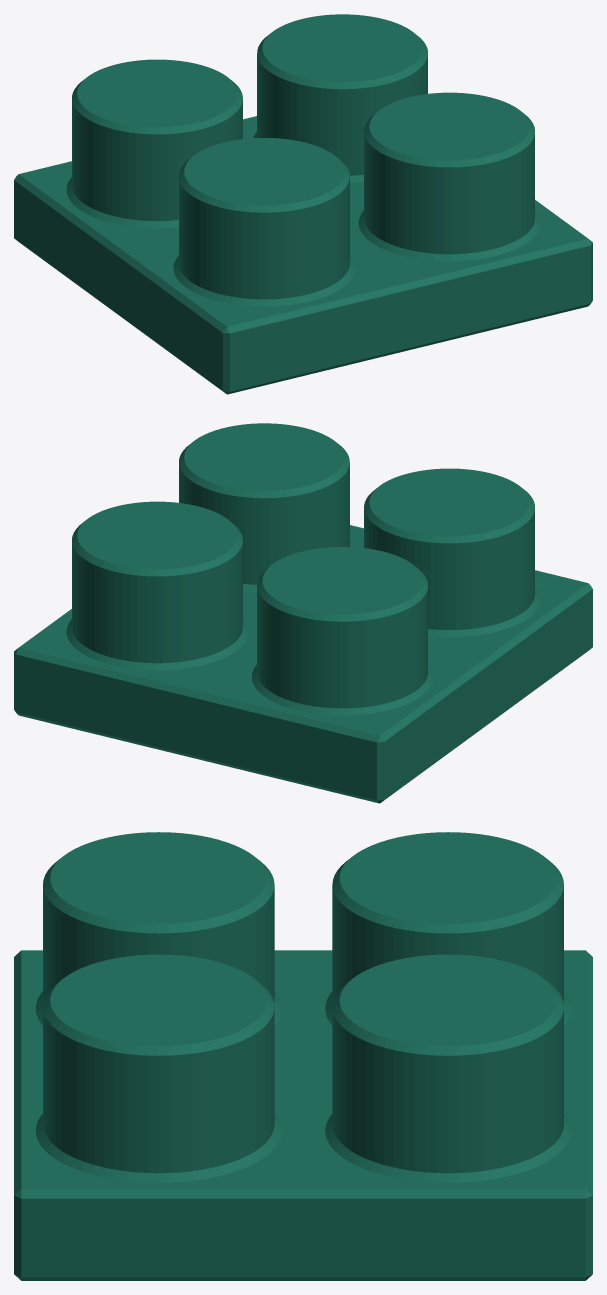
Rendered from lego_5.fbx.
The picture shows the model from 3 angles, top to bottom: view 1: azimuth 30°, elevation 25°; view 2: azimuth 150°, elevation 25°; view 3: azimuth 270°, elevation 25°; orthographic projection. The views are drawn at different scales.
Parts seen in each view (by area): view 1: Cube; view 2: Cube; view 3: Cube.
Boxes of the visible parts, x1,y1,x2,y2 form: Cube: (14, 14, 592, 394); Cube: (14, 423, 592, 803); Cube: (14, 832, 592, 1280).
Bounding box in the file's own units: 200 × 84.75 × 200.
